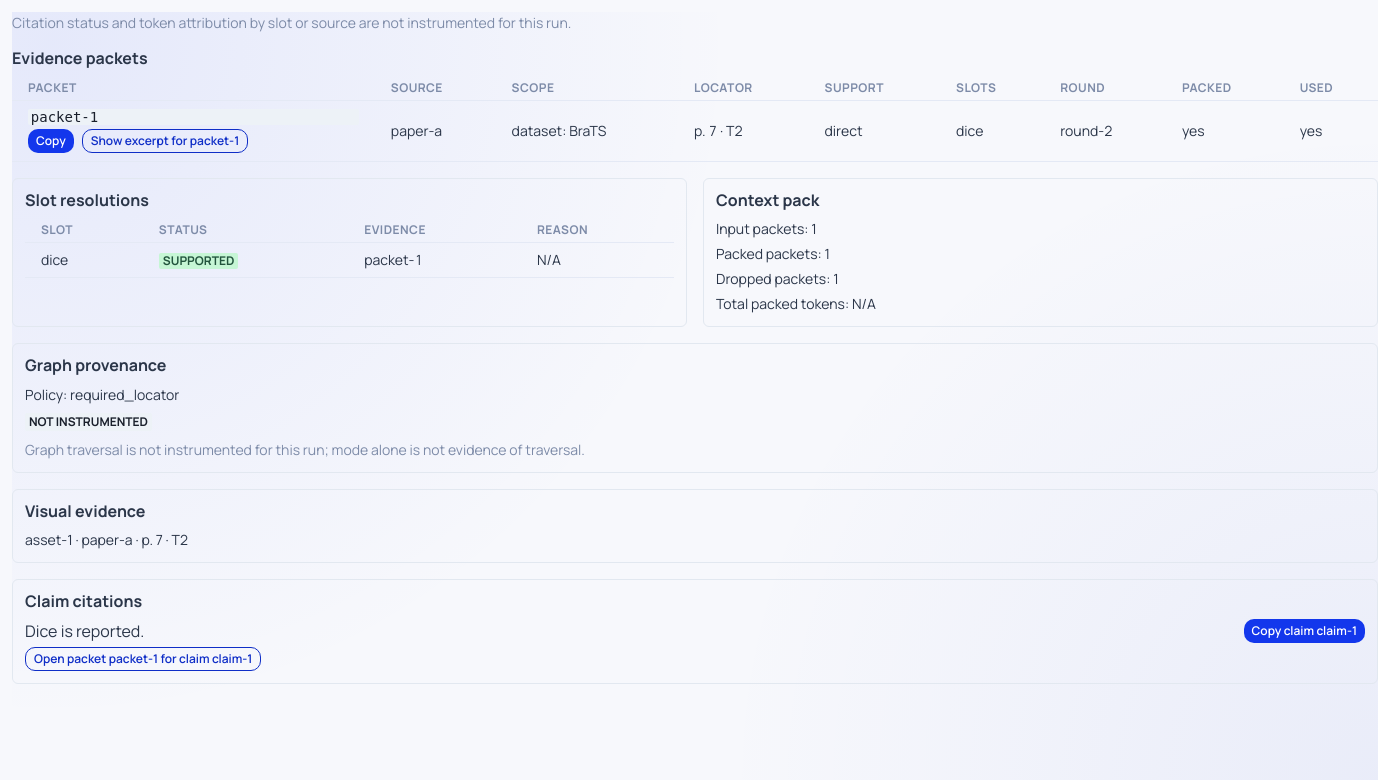
it: V9EvidenceExplorer › reveals authorized plain-text excerpts and navigates a claim citation to its packet
expect the text "<script>quoted evidence remains plain text</script>" is not shown: met
Click the button "Show excerpt for packet-1".
click(165, 141)  # box [82,129,248,153]
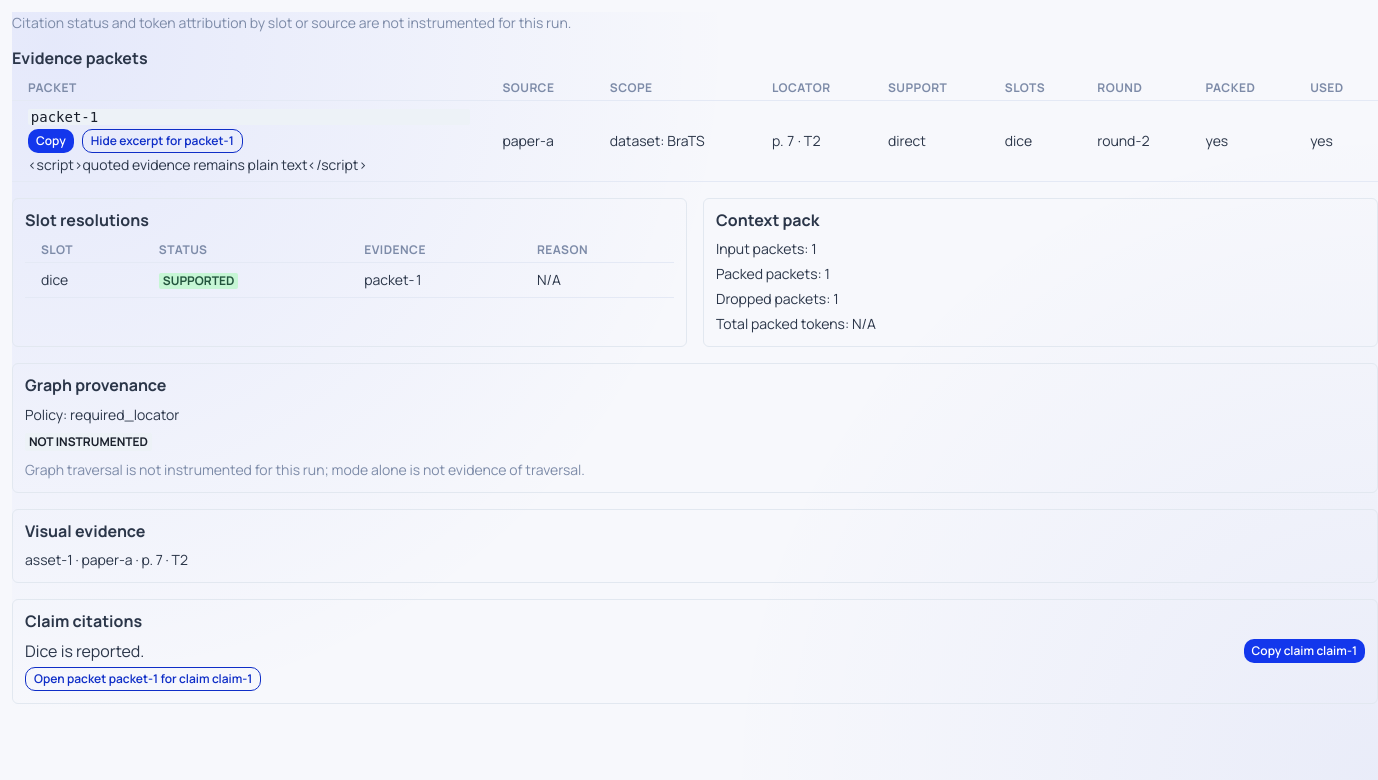
expect the text "<script>quoted evidence remains plain text</script>" is shown: met, box [28,155,367,174]
Click the button "Open packet packet-1 for claim claim-1".
click(143, 679)  # box [25,667,261,691]
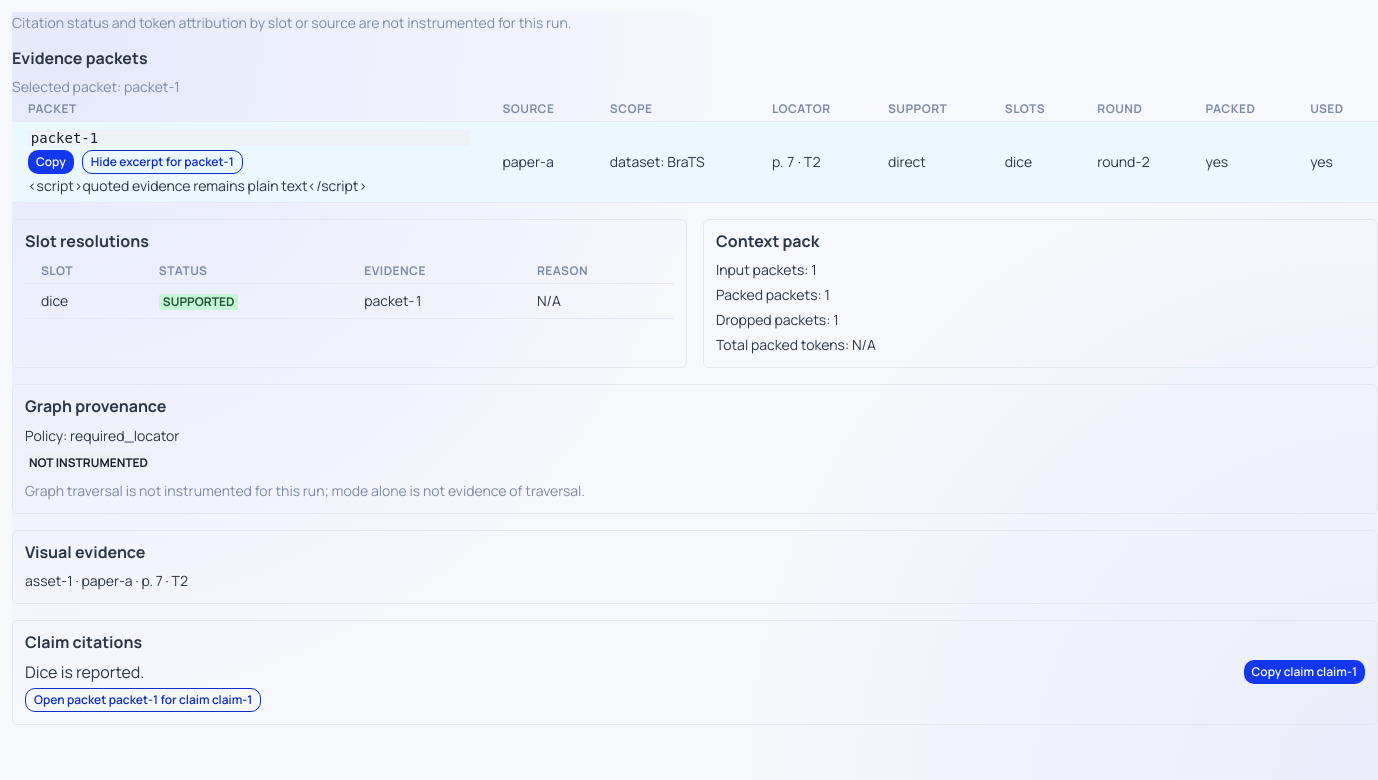
expect the button "Copy claim claim-1" is shown: met, box [1244,660,1365,684]
expect the text "Selected packet: packet-1" is shown: met, box [12,77,180,96]
